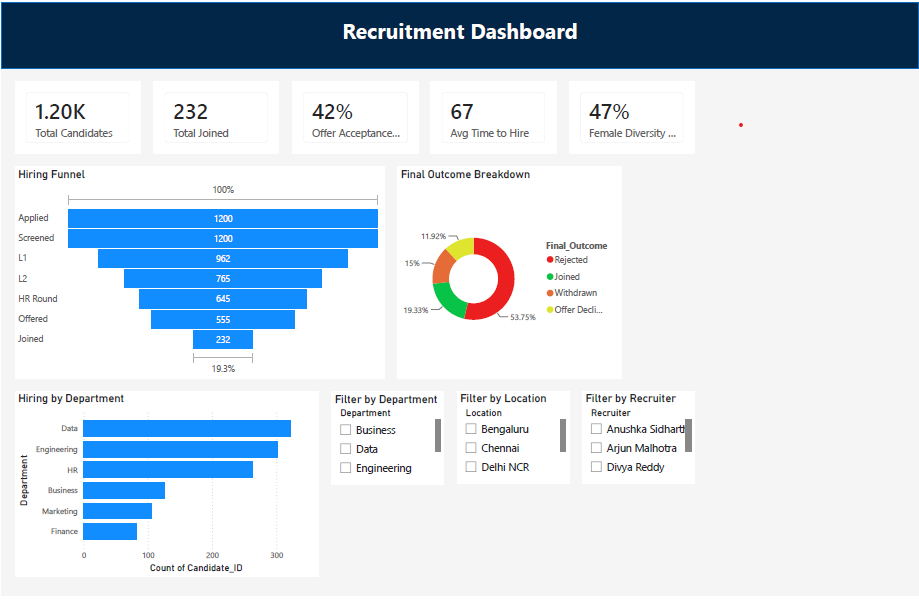

The dashboard page shown, as its layout file describes it:
{"tool":"powerbi","page":{"name":"Executive Overview","canvas":[1390,900],"ordinal":0},"visuals":[{"type":"cardVisual","fields":{"Data":["RecruitmentData.Total Candidates"]},"box":[20.1,120,190.2,110],"z":0},{"type":"shape","box":[0,1,1390.2,100],"z":1000},{"type":"textbox","box":[336.6,16.5,715.2,65.9],"z":2000},{"type":"cardVisual","fields":{"Data":["RecruitmentData.Total Joined"]},"box":[230,120,190,110],"z":3000},{"type":"cardVisual","fields":{"Data":["RecruitmentData.Offer Acceptance Rate"]},"box":[440,120,192,110],"z":4000},{"type":"cardVisual","fields":{"Data":["RecruitmentData.Avg Time to Hire"]},"box":[650,120,190,110],"z":5000},{"type":"cardVisual","fields":{"Data":["RecruitmentData.Female Diversity %"]},"box":[860,120,190,110],"z":6000},{"type":"funnel","title":"Hiring Funnel","fields":{"Category":["Stages.Stage"],"Y":["RecruitmentData.Funnel Value"]},"box":[20,250,560,320],"z":7000},{"type":"donutChart","title":"Final Outcome Breakdown","fields":{"Category":["RecruitmentData.Final_Outcome"],"Y":["Count(RecruitmentData.Candidate_ID)"]},"box":[600,250,340,320],"z":8000},{"type":"clusteredBarChart","title":"Hiring by Department","fields":{"Category":["RecruitmentData.Department"],"Y":["Count(RecruitmentData.Candidate_ID)"]},"box":[20,590,460,280],"z":9000},{"type":"slicer","title":"Filter by Department","fields":{"Values":["RecruitmentData.Department"]},"box":[500,590.9,170.1,140],"z":10000},{"type":"slicer","title":"Filter by Location","fields":{"Values":["RecruitmentData.Location"]},"box":[690,590,170,140],"z":11000},{"type":"slicer","title":"Filter by Recruiter","fields":{"Values":["RecruitmentData.Recruiter"]},"box":[880,590,170,140],"z":12000}]}

Visuals, with their boxes in screenshot pixels (x1, y1, x2, y2), scaled from the page's 1390x900 canvas onto the 919x603 screenshot:
cardVisual - RecruitmentData.Total Candidates: locate(13, 80, 139, 154)
shape: locate(0, 1, 918, 68)
textbox: locate(223, 11, 695, 55)
cardVisual - RecruitmentData.Total Joined: locate(152, 80, 278, 154)
cardVisual - RecruitmentData.Offer Acceptance Rate: locate(291, 80, 418, 154)
cardVisual - RecruitmentData.Avg Time to Hire: locate(430, 80, 555, 154)
cardVisual - RecruitmentData.Female Diversity %: locate(569, 80, 694, 154)
"Hiring Funnel" funnel: locate(13, 168, 383, 382)
"Final Outcome Breakdown" donutChart: locate(397, 168, 621, 382)
"Hiring by Department" clusteredBarChart: locate(13, 395, 317, 583)
"Filter by Department" slicer: locate(331, 396, 443, 490)
"Filter by Location" slicer: locate(456, 395, 569, 489)
"Filter by Recruiter" slicer: locate(582, 395, 694, 489)
